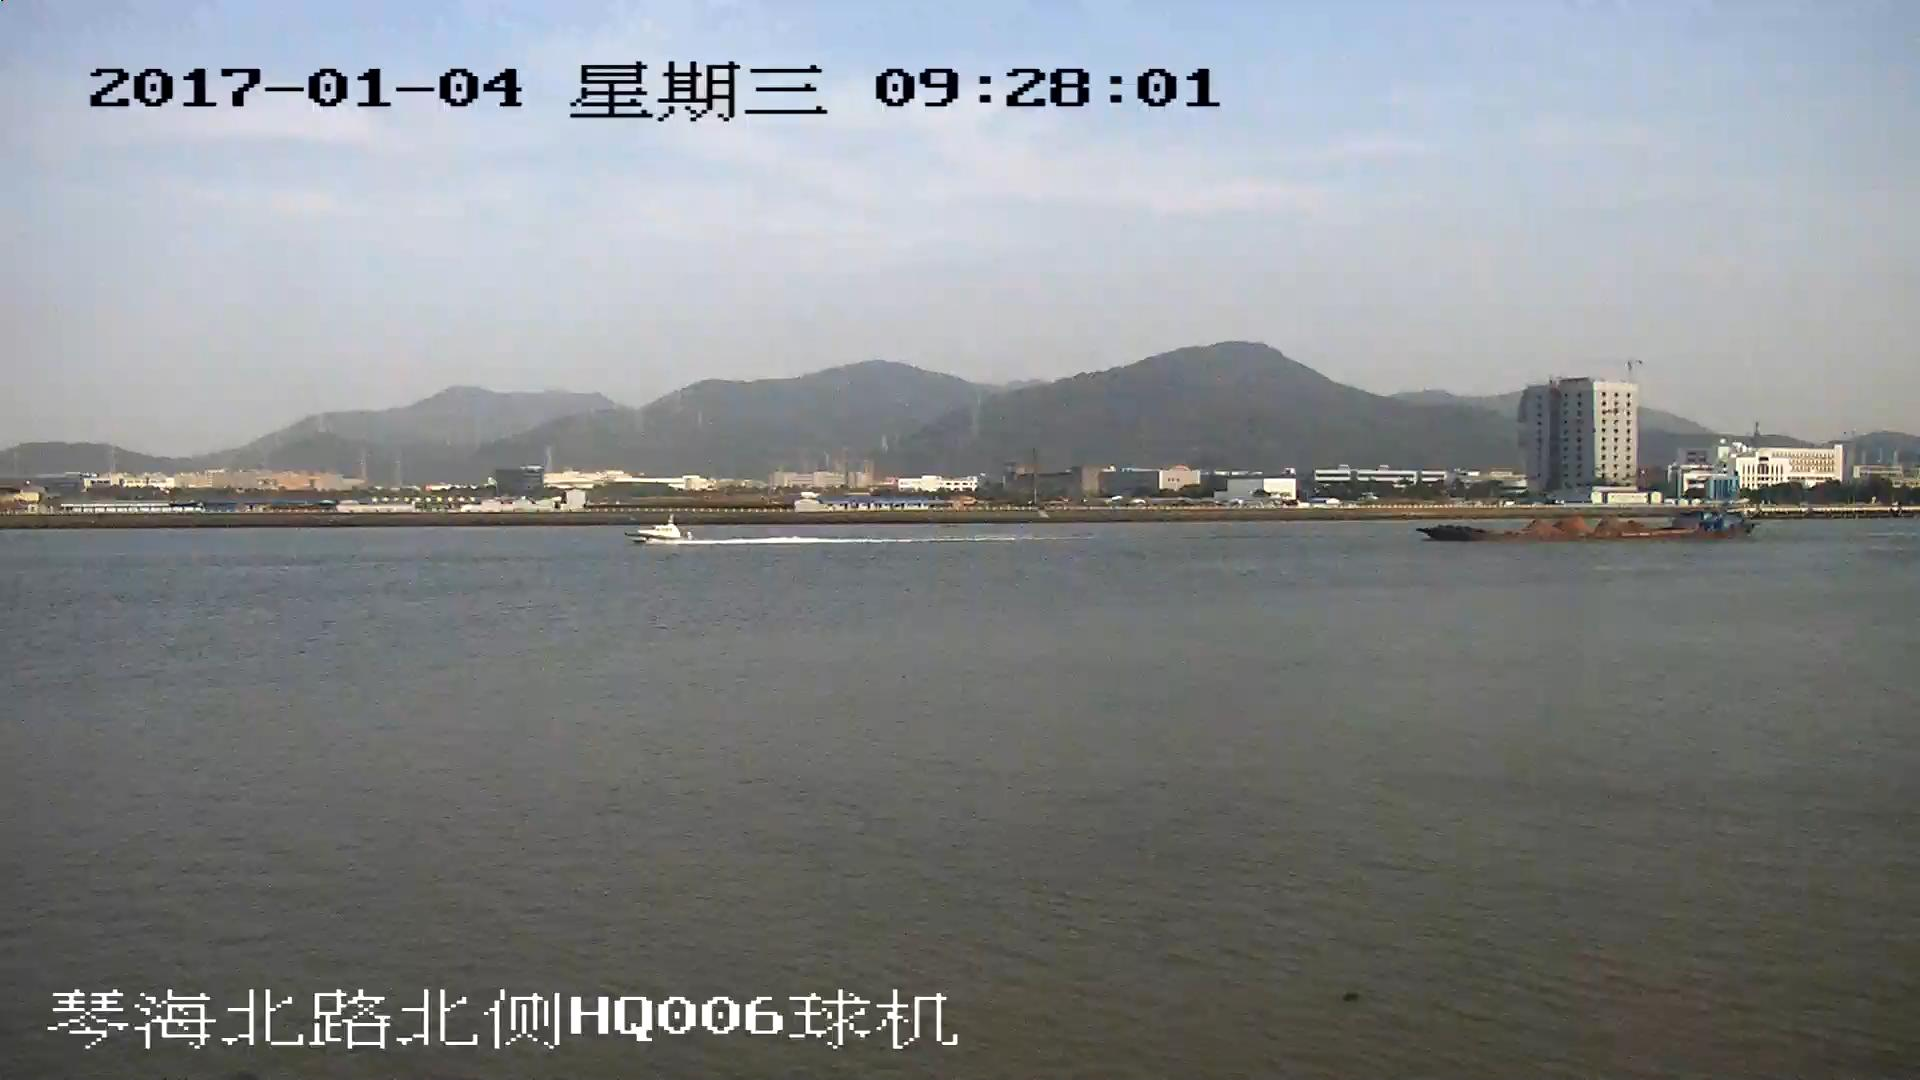ore carrier: (1422, 509, 1757, 543)
passenger ship: (629, 520, 683, 543)
